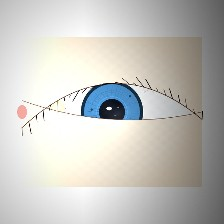pinguecula_lesion: (42, 95, 73, 120)
